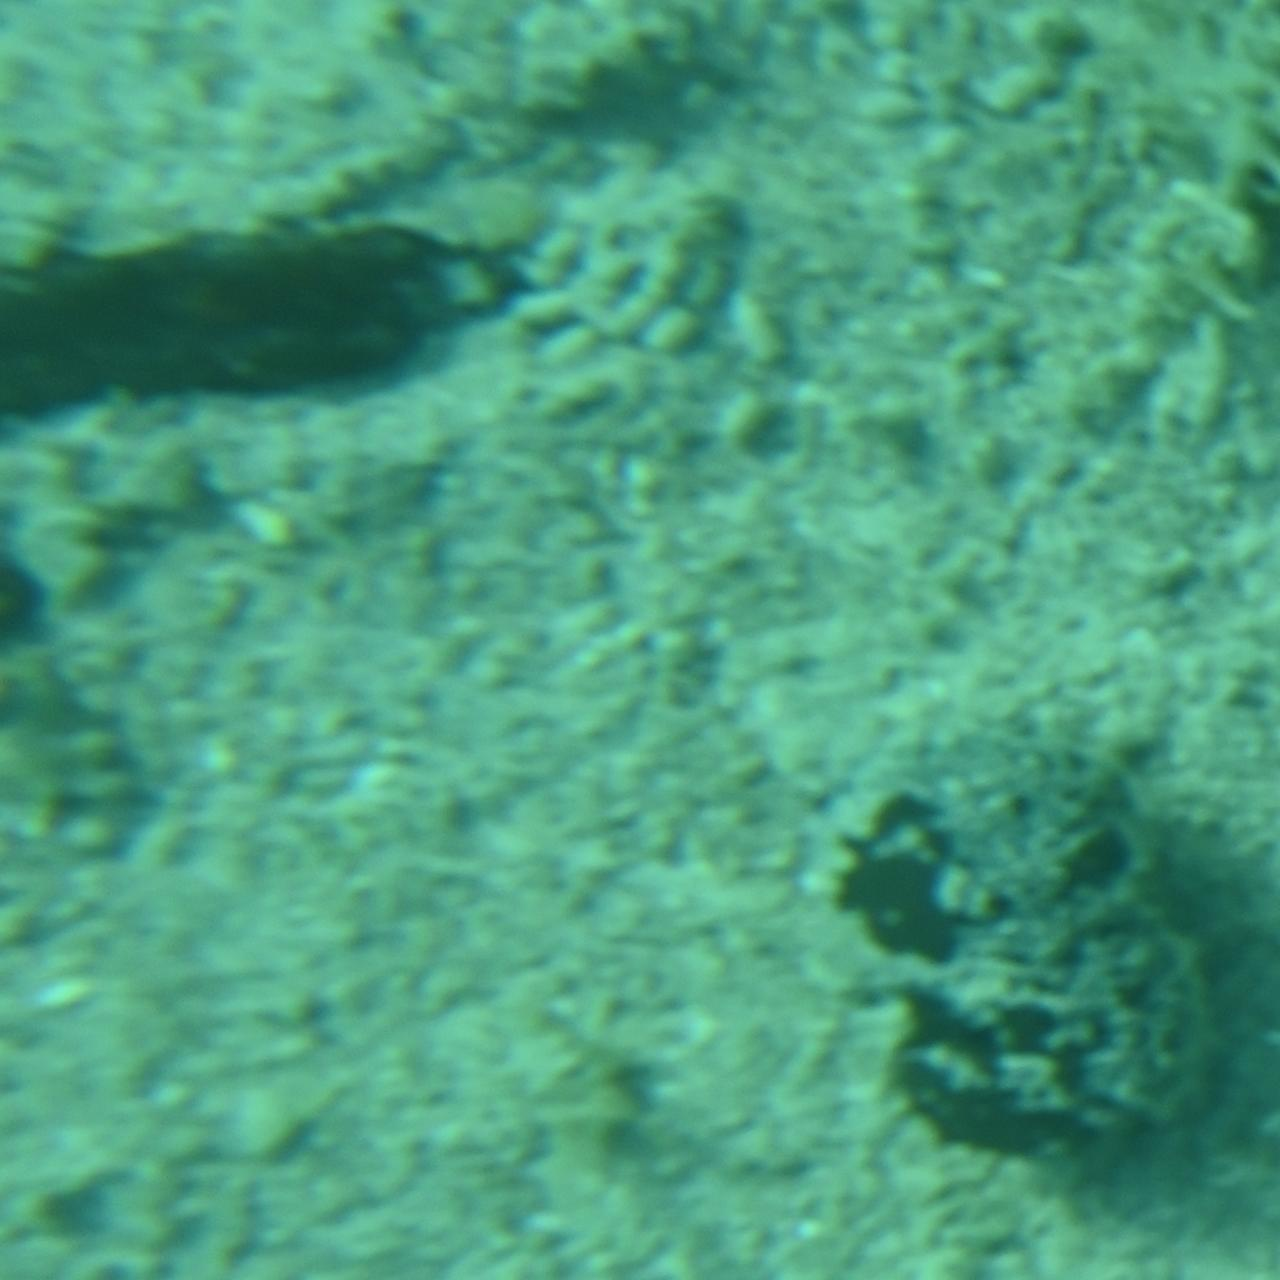Holothuria tubulosa: (0, 197, 558, 457)
Keratosa -cfr Sarcotragus-: (832, 744, 1210, 1162)
